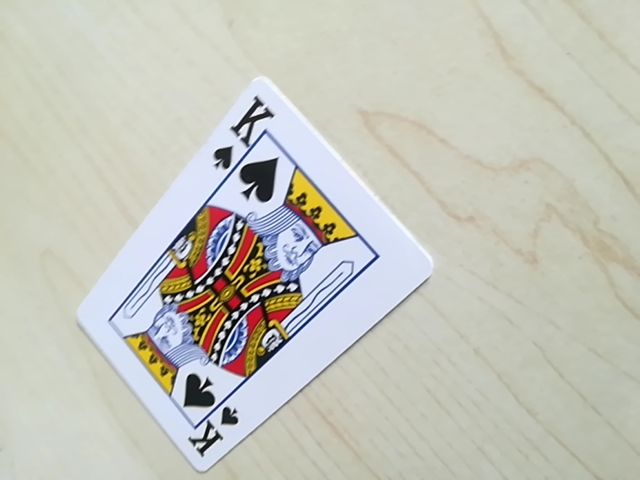ht k: (208, 90, 282, 189), (176, 401, 245, 467)
